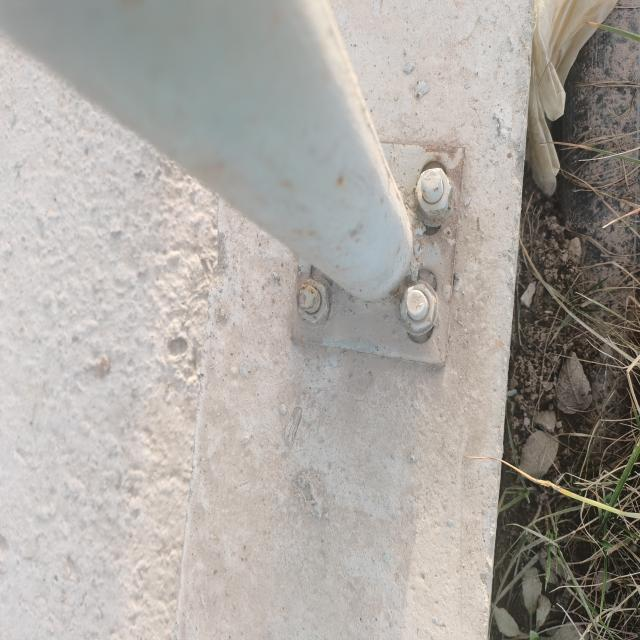bolt nut: (414, 166, 454, 220), (397, 281, 437, 333), (295, 276, 331, 325)
